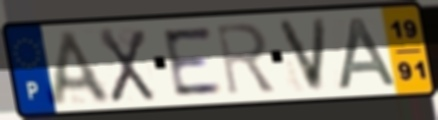A: (46, 28, 116, 108), (335, 15, 402, 91)
E: (159, 24, 226, 99)
R: (213, 20, 279, 98)
V: (273, 15, 330, 94)
X: (95, 27, 157, 105)
